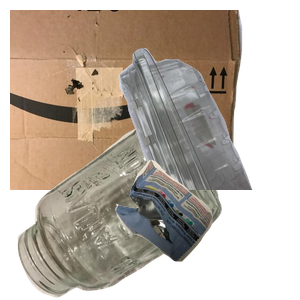cardboard: (10, 10, 245, 190)
glass: (15, 126, 229, 300)
plastic: (71, 45, 300, 225)
trash: (113, 157, 300, 300)
